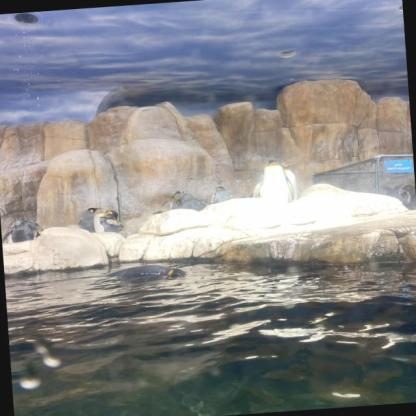penguin: (250, 158, 294, 206), (104, 261, 186, 282), (1, 217, 44, 246), (280, 160, 298, 202), (78, 206, 104, 234), (181, 190, 208, 214), (93, 210, 121, 233), (398, 182, 416, 210), (162, 188, 184, 210), (208, 185, 231, 205), (390, 182, 400, 197), (382, 185, 392, 198)
